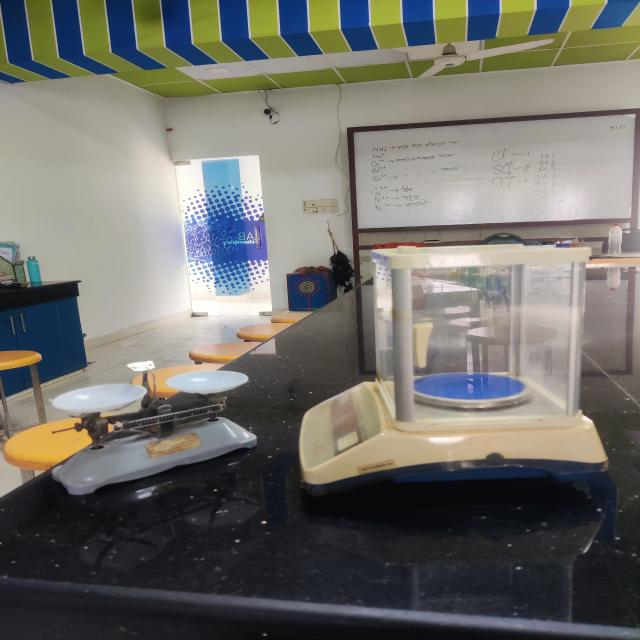Mechanical_Balance_Scale: (35, 352, 269, 518)
Precision_Weight_Scale: (294, 230, 618, 510)
